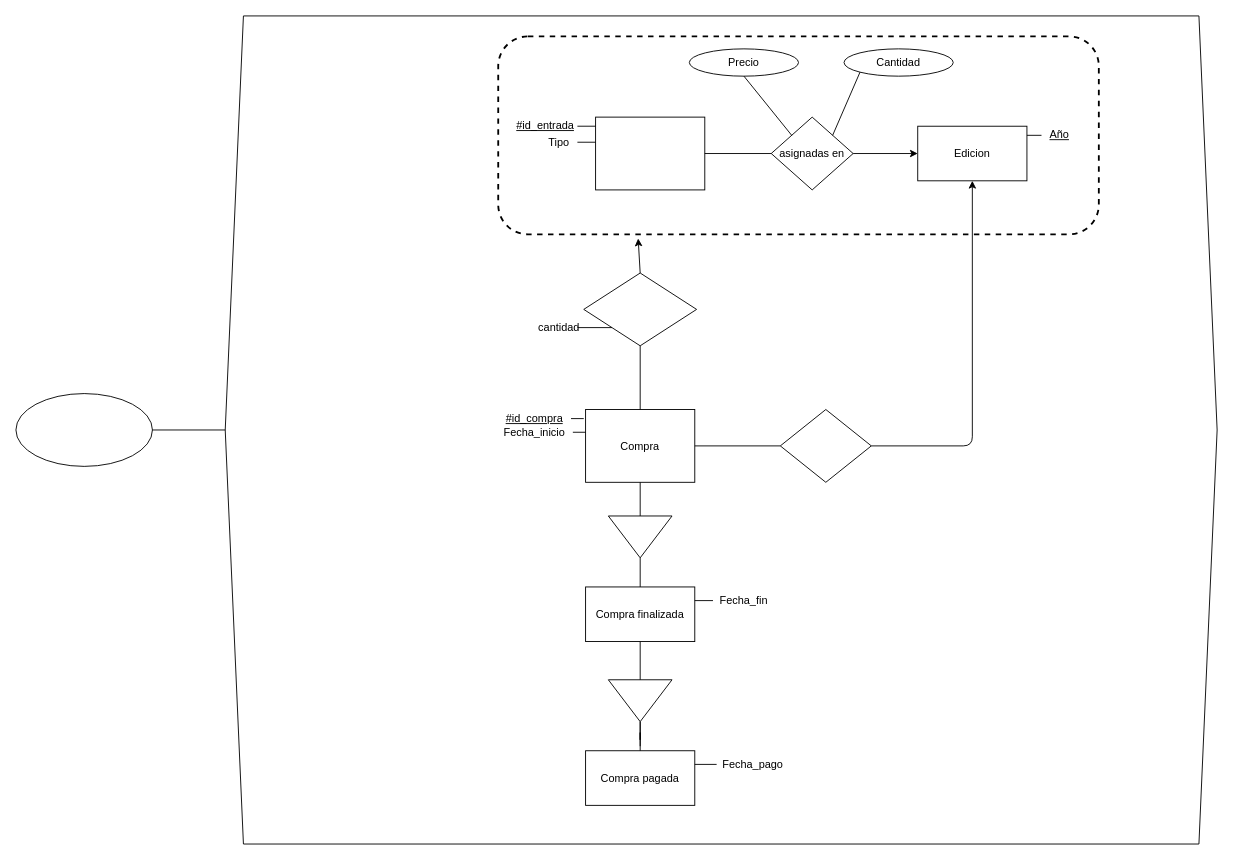
The diagram is 1233 pixels wide and 860 high, and some of its shapes have lost their labels. The shapes that lost their labels are listed below. From the top down, each one's centre as x and y in pixels, then its label:
(x=650, y=153): Entradas
(x=640, y=309): contiene
(x=83, y=429): RF: 2.9. Consultar dinero obtenido
(x=825, y=445): pertenece
